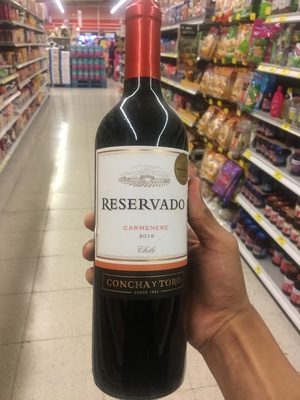reservado carmenere: (90, 10, 195, 400)
